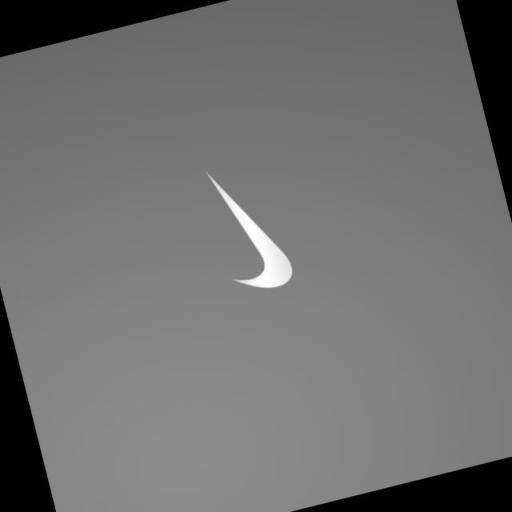Nike: (202, 156, 300, 300)
